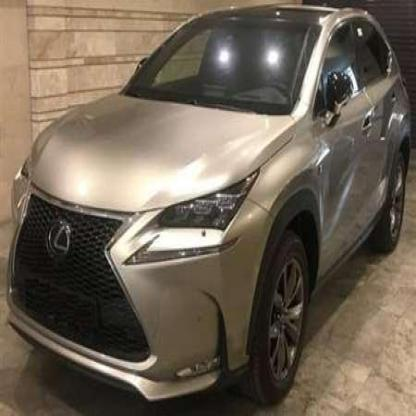Car: (0, 5, 416, 416)
